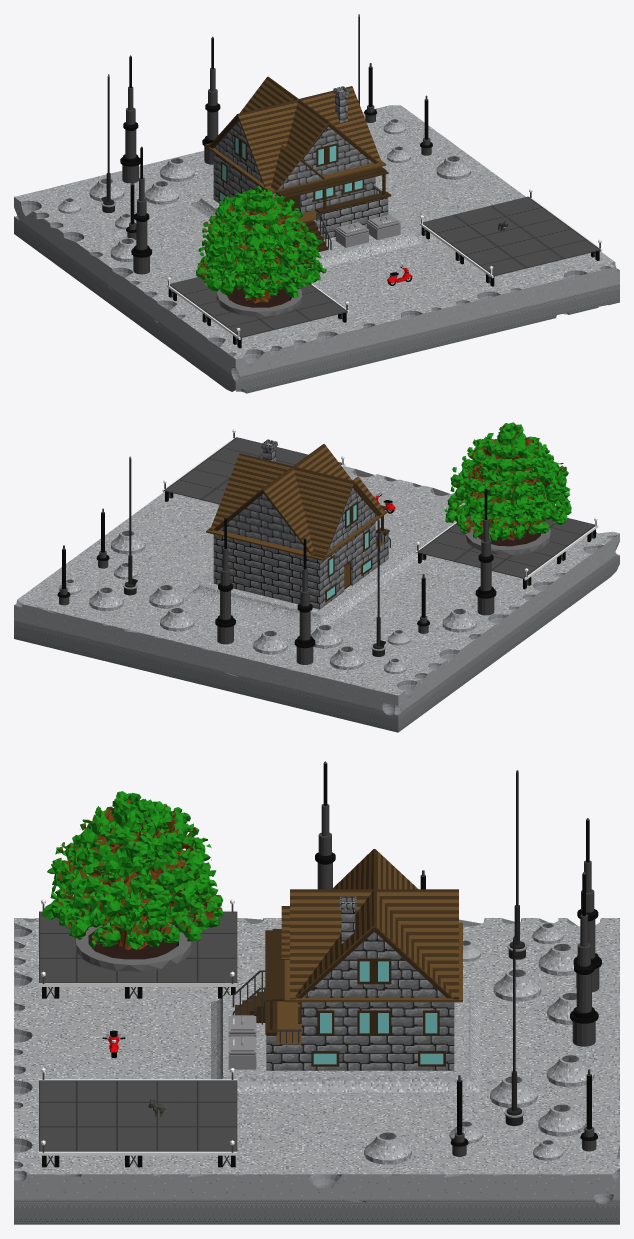
3 renders of one model, top to bottom at view 1: azimuth 30°, elevation 25°; view 2: azimuth 150°, elevation 25°; view 3: azimuth 270°, elevation 25°, orthographic. The views are drawn at different scales.
Visible parts, largest first — view 1: Cube.027, Cube.586, OBJRANDOM_CEIBA, Cube.026, Cube.025, Cube.028, Cylinder.021, Cylinder.020, Cylinder.017, Cube.029, Cube.030, Cylinder.026 (+4 smaller); view 2: Cube.027, Cube.586, OBJRANDOM_CEIBA, Cube.025, Cube.028, Cube.026, Cylinder.020, Cylinder.021, Cylinder.017, Cylinder.030, Cylinder.027, Cylinder.029 (+7 smaller); view 3: Cube.027, Cube.586, OBJRANDOM_CEIBA, Cube.026, Cube.028, Cube.025, Cylinder.017, Cylinder.021, Cylinder.020, Cylinder.033, Cylinder.031, Cylinder.029 (+10 smaller).
Part boxes in pixels (left/top/right/bottom): Cube.027: left=14, top=105, right=619, bottom=393; Cube.586: left=205, top=76, right=391, bottom=251; OBJRANDOM_CEIBA: left=196, top=185, right=326, bottom=316; Cube.026: left=419, top=189, right=602, bottom=286; Cube.025: left=166, top=274, right=349, bottom=348; Cube.028: left=191, top=194, right=423, bottom=269; Cylinder.021: left=131, top=146, right=151, bottom=274; Cylinder.020: left=120, top=55, right=140, bottom=183; Cylinder.017: left=202, top=36, right=220, bottom=164; Cube.029: left=335, top=222, right=368, bottom=247; Cube.030: left=367, top=214, right=400, bottom=240; Cylinder.026: left=144, top=180, right=179, bottom=204; Cube.027: left=14, top=466, right=619, bottom=732; Cube.586: left=206, top=439, right=390, bottom=609; OBJRANDOM_CEIBA: left=444, top=422, right=571, bottom=554; Cube.025: left=415, top=515, right=598, bottom=589; Cube.028: left=189, top=544, right=417, bottom=626; Cube.026: left=162, top=429, right=345, bottom=504; Cylinder.020: left=294, top=537, right=315, bottom=664; Cylinder.021: left=475, top=487, right=496, bottom=615; Cylinder.017: left=215, top=516, right=235, bottom=644; Cylinder.030: left=149, top=584, right=183, bottom=608; Cylinder.027: left=253, top=630, right=287, bottom=654; Cylinder.029: left=160, top=607, right=194, bottom=631; Cube.027: left=14, top=918, right=619, bottom=1224; Cube.586: left=232, top=849, right=462, bottom=1070; OBJRANDOM_CEIBA: left=41, top=791, right=223, bottom=971; Cube.026: left=39, top=1068, right=237, bottom=1167; Cube.028: left=211, top=995, right=480, bottom=1092; Cube.025: left=39, top=899, right=237, bottom=998; Cylinder.017: left=570, top=871, right=598, bottom=1046; Cylinder.021: left=315, top=761, right=335, bottom=889; Cylinder.020: left=573, top=818, right=601, bottom=992; Cylinder.033: left=364, top=1131, right=411, bottom=1164; Cylinder.031: left=538, top=1103, right=585, bottom=1136; Cylinder.029: left=546, top=1054, right=594, bottom=1087.
Size of the model in its own units: 4000 by 1900 by 4000.
Materials: 32 (5 with a texture image).
